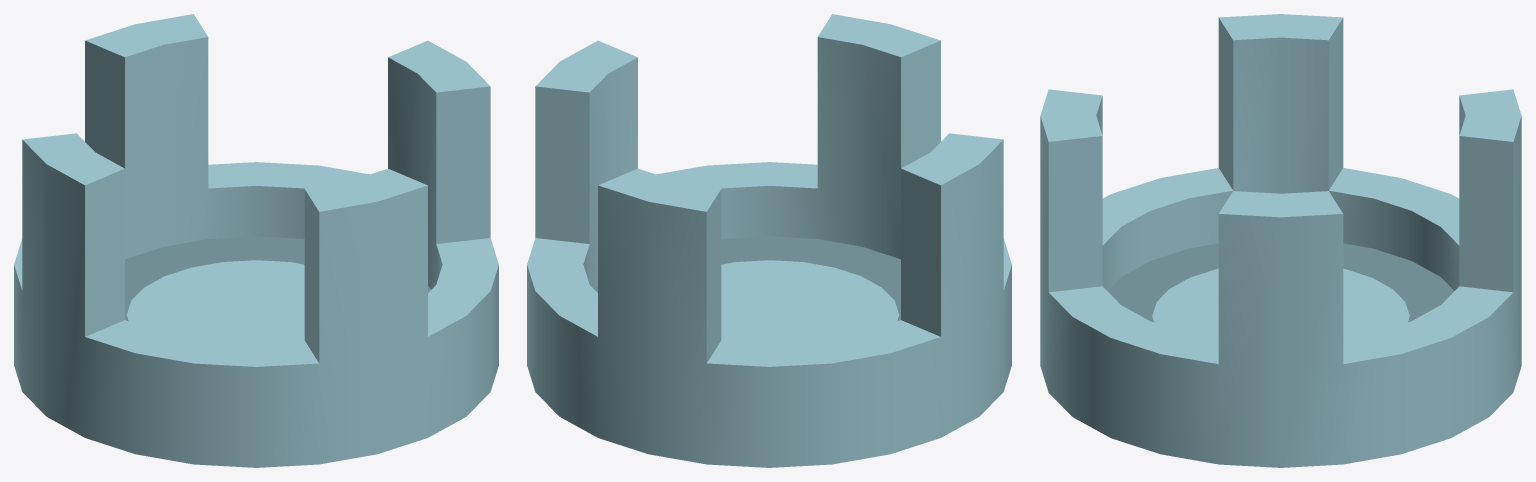
Rendered from towerRound_middleC.dae.
3 views of the same model, side by side, from view 1: azimuth 30°, elevation 25°; view 2: azimuth 150°, elevation 25°; view 3: azimuth 270°, elevation 25° (orthographic).
Visible parts, largest first — view 1: towerRound_middleC; view 2: towerRound_middleC; view 3: towerRound_middleC.
Boxes of the visible parts, x1=… form: towerRound_middleC: x1=14, y1=14, x2=498, y2=467; towerRound_middleC: x1=527, y1=14, x2=1011, y2=467; towerRound_middleC: x1=1040, y1=14, x2=1521, y2=467.
Size of the model in its own units: 0.87 by 0.5 by 0.87.
